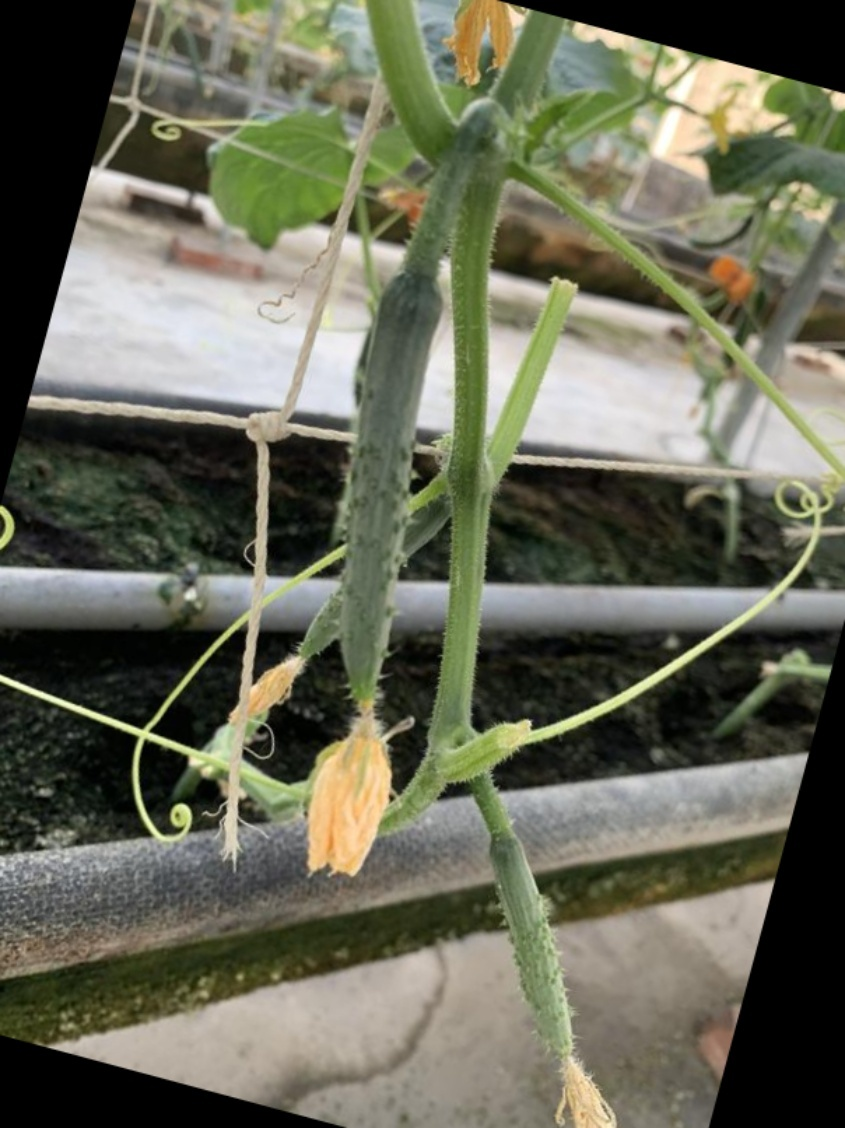bear: (311, 268, 449, 875), (482, 814, 639, 1127)
